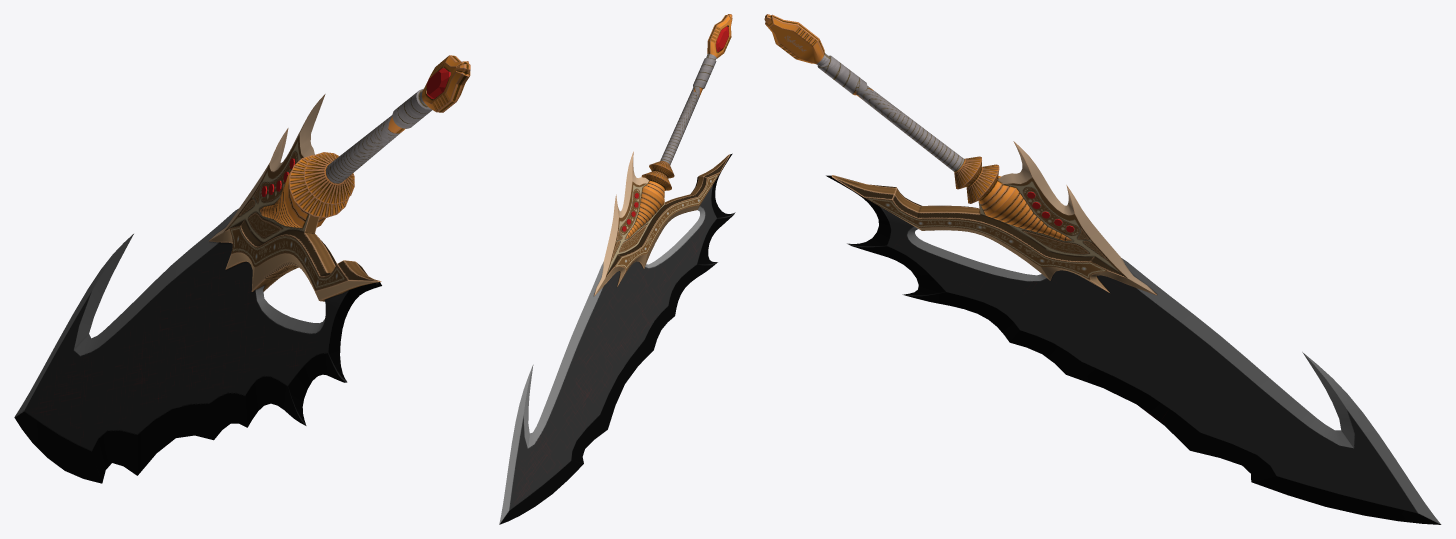
Rendered from oathbringer.obj.
3 renders of one model, left to right at view 1: azimuth 30°, elevation 25°; view 2: azimuth 150°, elevation 25°; view 3: azimuth 270°, elevation 25°, orthographic. The views are drawn at different scales.
Parts seen in each view (by area): view 1: Oathbringer.001_Oathbringer_0; view 2: Oathbringer.001_Oathbringer_0; view 3: Oathbringer.001_Oathbringer_0.
Boxes of the visible parts, bbox=[...] form: Oathbringer.001_Oathbringer_0: bbox=[14, 55, 470, 483]; Oathbringer.001_Oathbringer_0: bbox=[499, 14, 735, 524]; Oathbringer.001_Oathbringer_0: bbox=[764, 14, 1441, 524].
Bounding box in the file's own units: 0.2272 × 1.51 × 1.82.
1 material, 1 textured.
